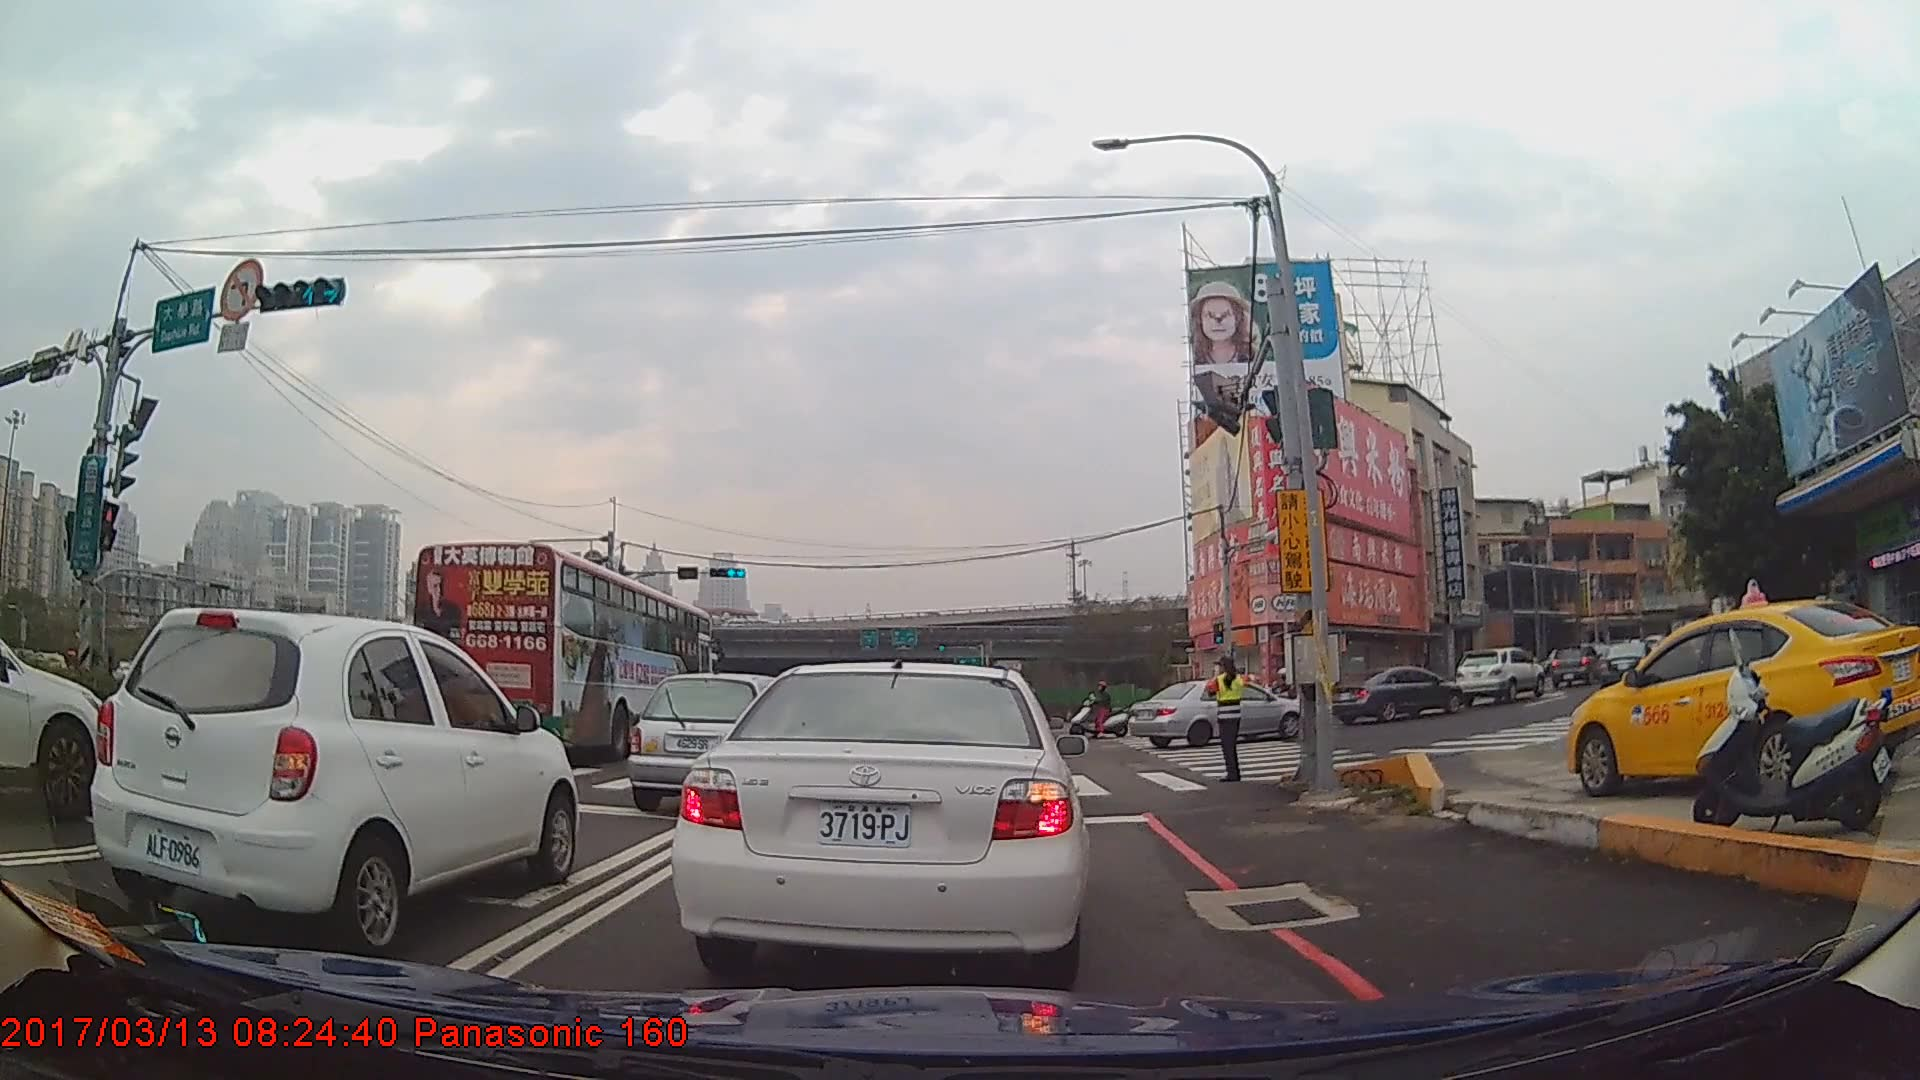pedestrian: (1205, 655, 1248, 785)
rider: (1072, 682, 1133, 738)
vehicle: (86, 602, 578, 953), (668, 658, 1086, 984), (1565, 599, 1920, 797), (403, 541, 717, 763), (625, 671, 821, 814), (1122, 677, 1302, 748), (1326, 664, 1461, 724), (1455, 645, 1544, 707), (1596, 638, 1660, 695), (1551, 642, 1603, 688)
